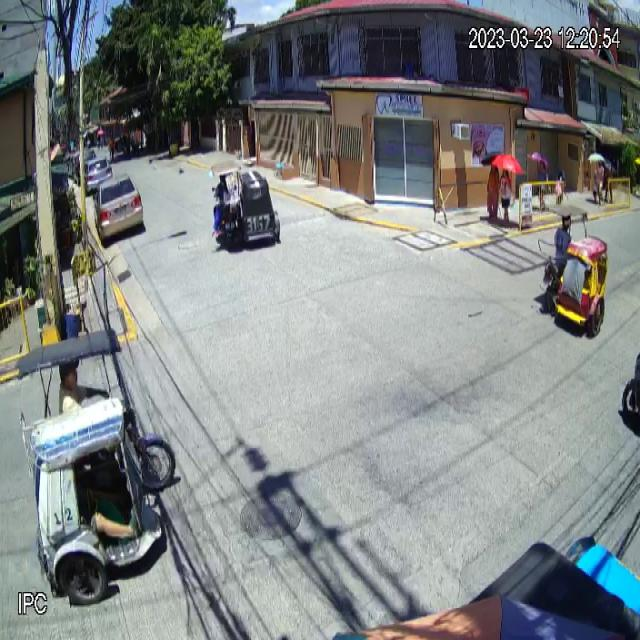Tricycle: (16, 328, 174, 608), (537, 198, 611, 335), (210, 163, 282, 250)
